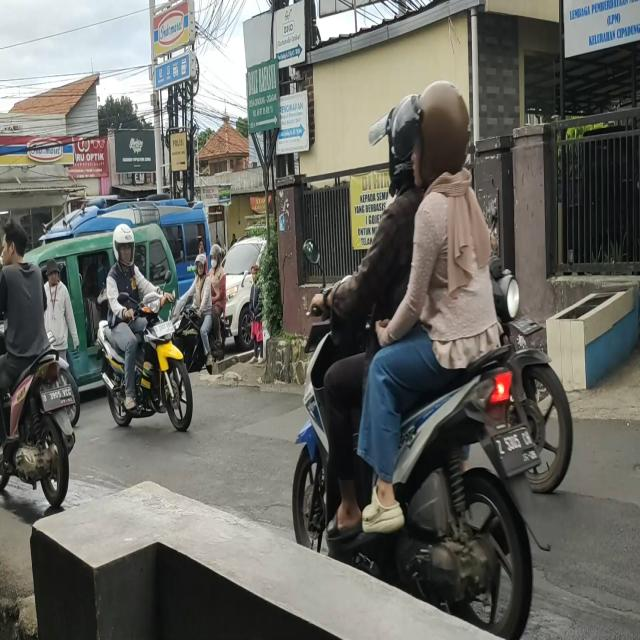helmet: (418, 90, 471, 178), (379, 112, 419, 188), (114, 225, 135, 268), (195, 256, 208, 281), (212, 246, 222, 273)
no-helmet: (3, 228, 27, 270)
